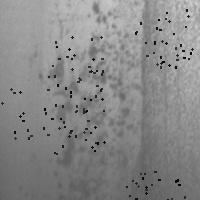pitted_surface: (35, 2, 138, 200), (141, 1, 200, 200), (43, 95, 103, 153), (135, 9, 191, 66), (47, 36, 102, 91), (126, 171, 184, 200), (0, 87, 30, 137)
